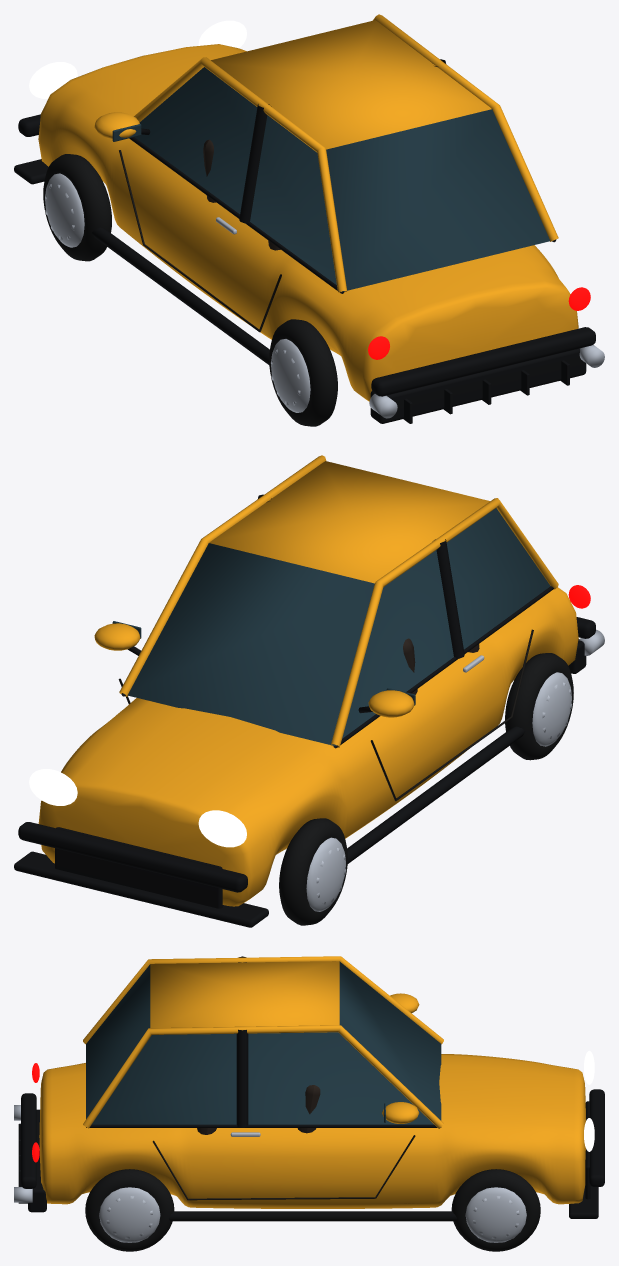
The model's file is city-hatch.glb.
3 views of the same model, one above another, from view 1: azimuth 30°, elevation 25°; view 2: azimuth 150°, elevation 25°; view 3: azimuth 270°, elevation 25° (orthographic). The views are drawn at different scales.
Parts seen in each view (by area): view 1: Surface_Paint, Surface_Glazing, Surface_Carbon, Tire, Tire.001, Rim_lip.001, Rim_lip, Surface_Headlights, Surface_Alloy, Surface_Panel_seams, Surface_Tailights; view 2: Surface_Paint, Surface_Glazing, Surface_Carbon, Tire.001, Tire, Surface_Headlights, Rim_lip.001, Rim_lip, Surface_Panel_seams; view 3: Surface_Paint, Surface_Glazing, Surface_Carbon, Tire.002, Tire.003, Rim_lip.003, Rim_lip.002, Surface_Panel_seams, Surface_Headlights, Surface_Alloy, Surface_Leather.
Part boxes in pixels (x1=…): Surface_Paint: x1=38, y1=14, x2=578, y2=401; Surface_Glazing: x1=112, y1=67, x2=550, y2=291; Surface_Carbon: x1=14, y1=59, x2=595, y2=423; Tire: x1=269, y1=319, x2=337, y2=426; Tire.001: x1=43, y1=154, x2=111, y2=261; Rim_lip.001: x1=45, y1=173, x2=84, y2=247; Rim_lip: x1=271, y1=339, x2=310, y2=412; Surface_Headlights: x1=29, y1=20, x2=246, y2=98; Surface_Alloy: x1=216, y1=217, x2=604, y2=418; Surface_Panel_seams: x1=119, y1=150, x2=281, y2=332; Surface_Tailights: x1=368, y1=287, x2=590, y2=359; Surface_Paint: x1=38, y1=455, x2=578, y2=906; Surface_Glazing: x1=112, y1=508, x2=550, y2=745; Surface_Carbon: x1=14, y1=494, x2=595, y2=927; Tire.001: x1=279, y1=818, x2=347, y2=925; Tire: x1=505, y1=653, x2=573, y2=760; Surface_Headlights: x1=29, y1=769, x2=246, y2=847; Rim_lip.001: x1=306, y1=837, x2=346, y2=911; Rim_lip: x1=532, y1=672, x2=572, y2=746; Surface_Panel_seams: x1=118, y1=629, x2=533, y2=801; Surface_Paint: x1=39, y1=956, x2=585, y2=1208; Surface_Glazing: x1=86, y1=961, x2=441, y2=1124; Surface_Carbon: x1=18, y1=956, x2=604, y2=1221; Tire.002: x1=85, y1=1169, x2=174, y2=1251; Tire.003: x1=451, y1=1169, x2=540, y2=1251; Rim_lip.003: x1=465, y1=1187, x2=526, y2=1242; Rim_lip.002: x1=99, y1=1187, x2=160, y2=1242; Surface_Panel_seams: x1=152, y1=1135, x2=415, y2=1200; Surface_Headlights: x1=584, y1=1050, x2=594, y2=1151; Surface_Alloy: x1=14, y1=1105, x2=260, y2=1202; Surface_Leather: x1=197, y1=1085, x2=320, y2=1134.
Bounding box in the file's own units: 1.88 × 1.52 × 3.77.
